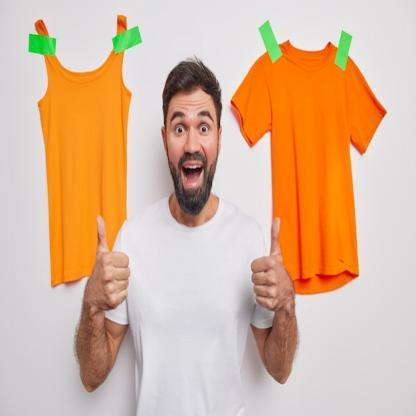thumb_up: (247, 211, 294, 316), (89, 211, 132, 310)
